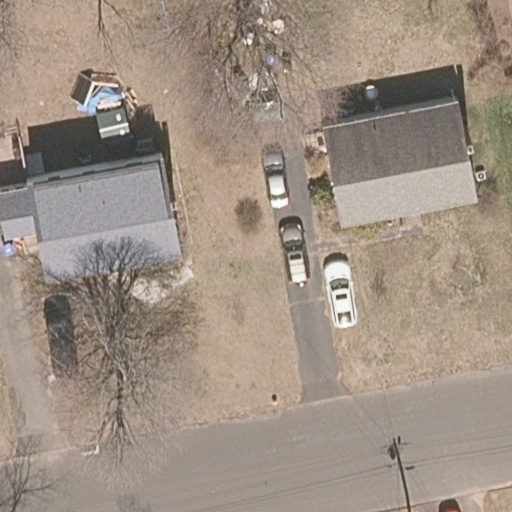DT: (387, 436, 415, 512)
